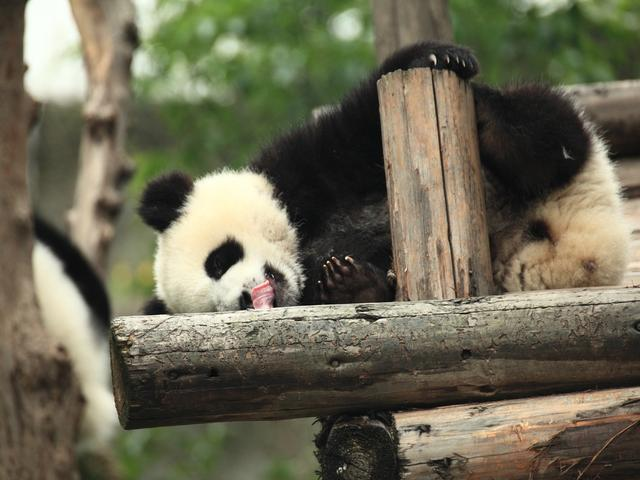panda: (35, 42, 633, 326)
